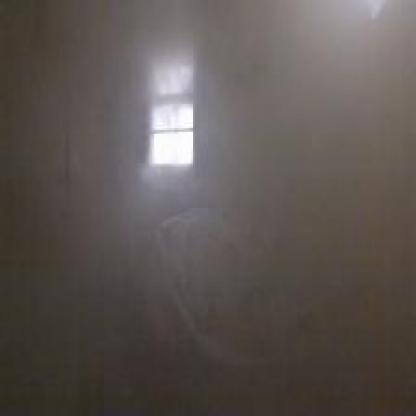other: (144, 67, 196, 167)
